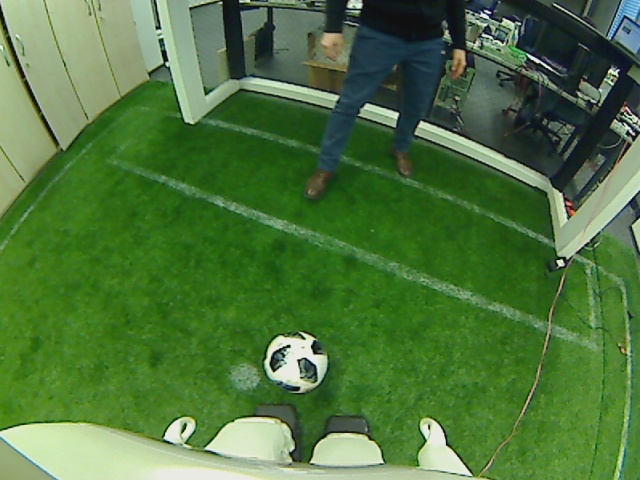ball: (261, 328, 328, 393)
